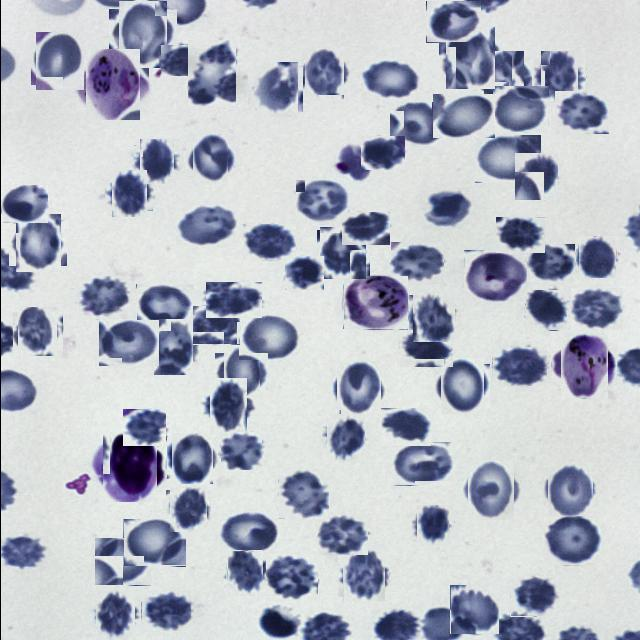difficult: (342, 276, 408, 330), (555, 338, 612, 394)
leukocyte: (98, 435, 160, 498)
red blood cell: (113, 5, 171, 62), (474, 135, 540, 183), (187, 40, 235, 106), (441, 30, 497, 86), (122, 518, 185, 566), (463, 463, 518, 517), (542, 516, 601, 566), (32, 34, 86, 88), (238, 313, 300, 360), (97, 320, 158, 367), (93, 538, 150, 586), (174, 204, 236, 248), (432, 94, 494, 138), (544, 464, 596, 516), (12, 216, 64, 268), (391, 442, 452, 486), (388, 102, 446, 148), (333, 364, 384, 416), (217, 512, 277, 556), (277, 469, 328, 520), (492, 86, 548, 132), (135, 284, 192, 328), (436, 360, 486, 410), (318, 228, 368, 278), (250, 64, 300, 114), (294, 180, 349, 225), (147, 322, 196, 372), (265, 554, 317, 601), (361, 59, 419, 101), (74, 276, 129, 320), (449, 585, 498, 634), (478, 54, 528, 102), (554, 91, 608, 134), (425, 1, 480, 43), (390, 242, 443, 284), (339, 552, 386, 599), (204, 383, 251, 430), (491, 347, 546, 387), (570, 288, 622, 330), (168, 435, 215, 481), (300, 51, 346, 97), (409, 294, 456, 339), (140, 590, 190, 632), (317, 512, 367, 554), (536, 54, 582, 99), (92, 593, 137, 639), (398, 330, 452, 368), (218, 349, 263, 394), (512, 154, 558, 198), (205, 282, 261, 318), (188, 306, 239, 345), (242, 223, 295, 260), (509, 577, 558, 617), (15, 310, 59, 354), (380, 408, 430, 446), (323, 416, 366, 459), (188, 136, 230, 180), (0, 185, 47, 224), (526, 244, 574, 282), (108, 172, 150, 215), (495, 217, 544, 253), (166, 488, 208, 530), (222, 552, 264, 594), (524, 290, 566, 331), (340, 212, 389, 246), (576, 237, 616, 277), (136, 142, 176, 182), (426, 192, 468, 230), (122, 409, 165, 446), (0, 535, 46, 569), (220, 432, 261, 470), (360, 136, 404, 170), (160, 45, 208, 76), (414, 508, 451, 544), (284, 256, 323, 290)
ring: (463, 250, 527, 302)
trophozoite: (80, 54, 144, 116)
